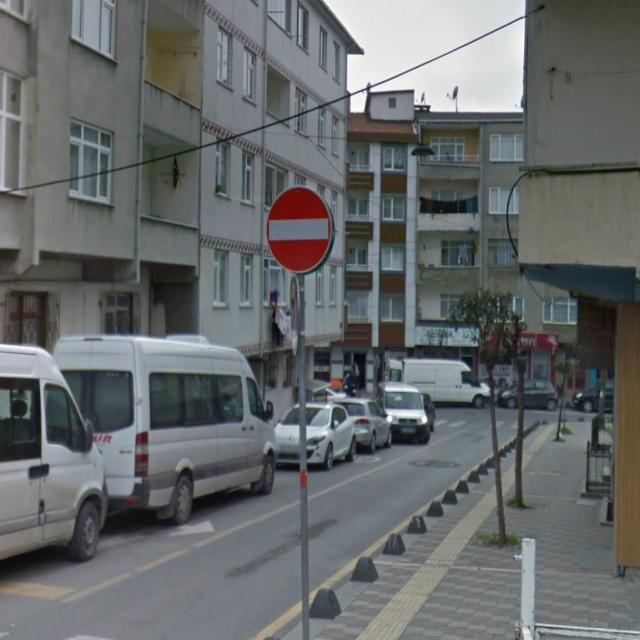girisyok: (266, 186, 331, 273)
